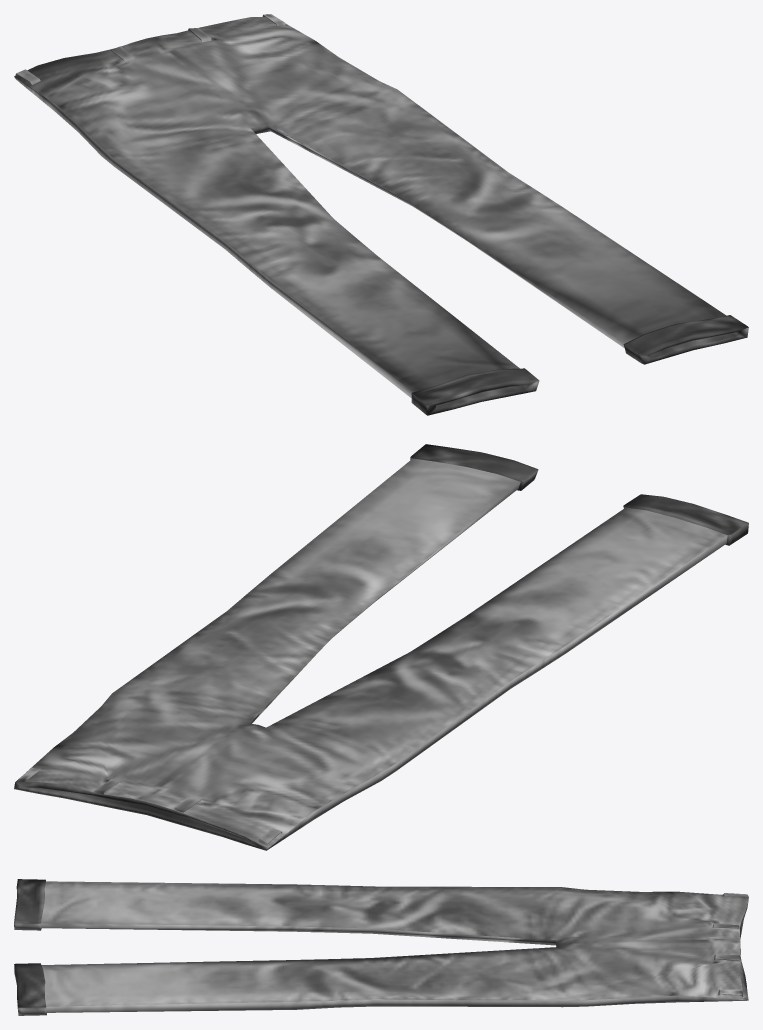
File: pantalon-shadows.obj
3 views of the same model, one above another, from view 1: azimuth 30°, elevation 25°; view 2: azimuth 150°, elevation 25°; view 3: azimuth 270°, elevation 25° (orthographic). The views are drawn at different scales.
Parts seen in each view (by area): view 1: pantalonshadows_Plane.003, stripshadows_Plane.004; view 2: pantalonshadows_Plane.003, stripshadows_Plane.004; view 3: pantalonshadows_Plane.003, stripshadows_Plane.004.
Boxes of the visible parts, <box> form: pantalonshadows_Plane.003: <box>14,17,748,415</box>; stripshadows_Plane.004: <box>15,14,285,84</box>; pantalonshadows_Plane.003: <box>14,444,748,850</box>; stripshadows_Plane.004: <box>17,767,282,846</box>; pantalonshadows_Plane.003: <box>14,879,748,1015</box>; stripshadows_Plane.004: <box>712,893,748,996</box>.
Size of the model in its own units: 40.82 by 1.97 by 98.56.
2 materials, 1 textured.
